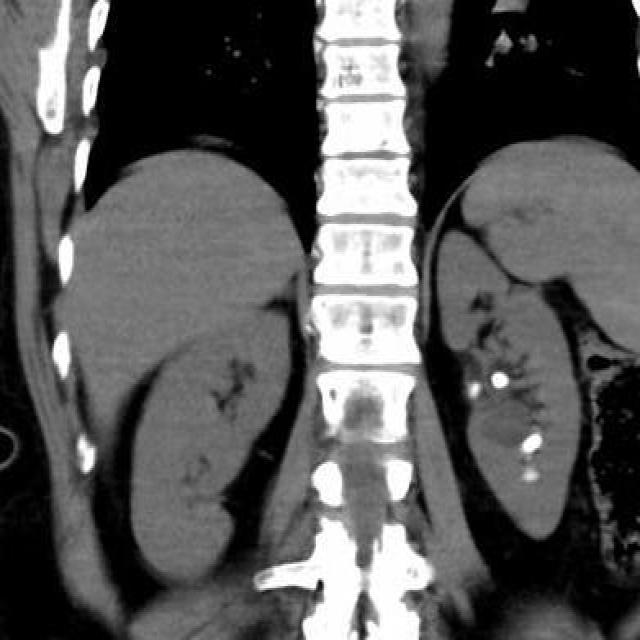Tas_Var: (518, 429, 548, 455), (485, 370, 513, 390), (520, 466, 544, 488), (470, 383, 481, 393), (470, 389, 478, 397)
